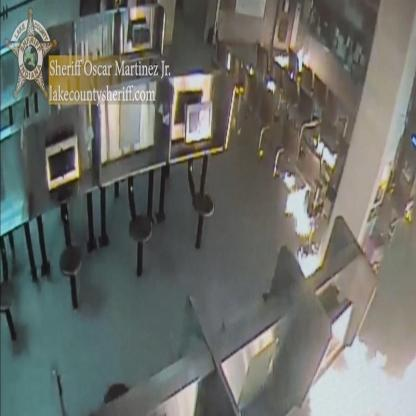fire: (309, 337, 416, 416), (284, 172, 314, 235), (298, 246, 321, 277), (296, 44, 310, 72)
